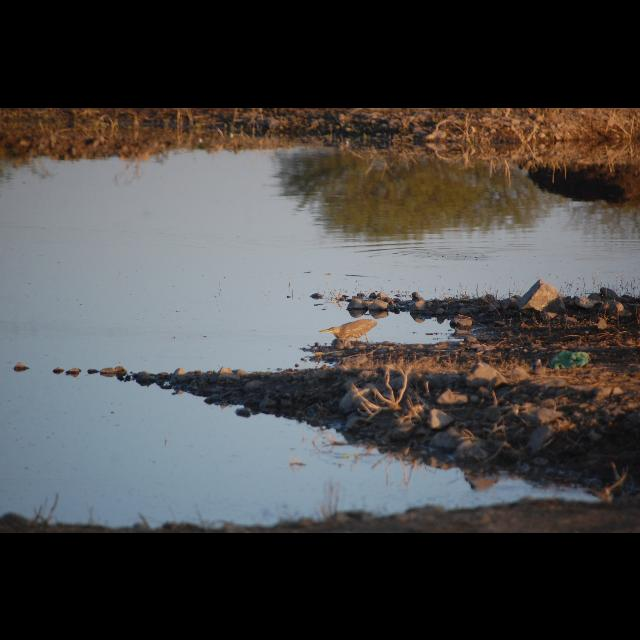heron: (318, 315, 379, 349)
